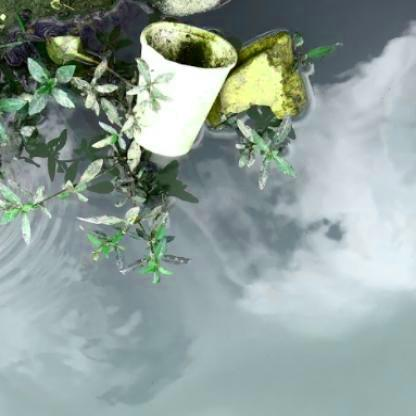Plastic: (130, 18, 241, 160)
